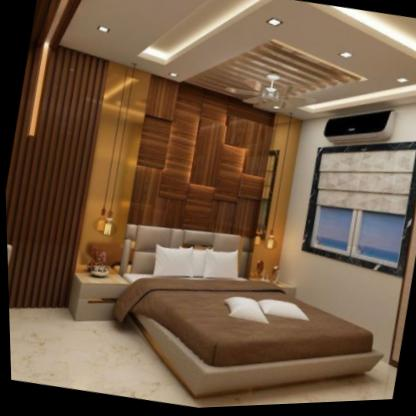Gypsum Board: (45, 0, 416, 156)
